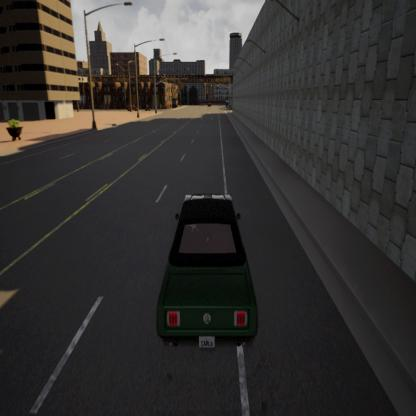Cars: (140, 175, 263, 361)
